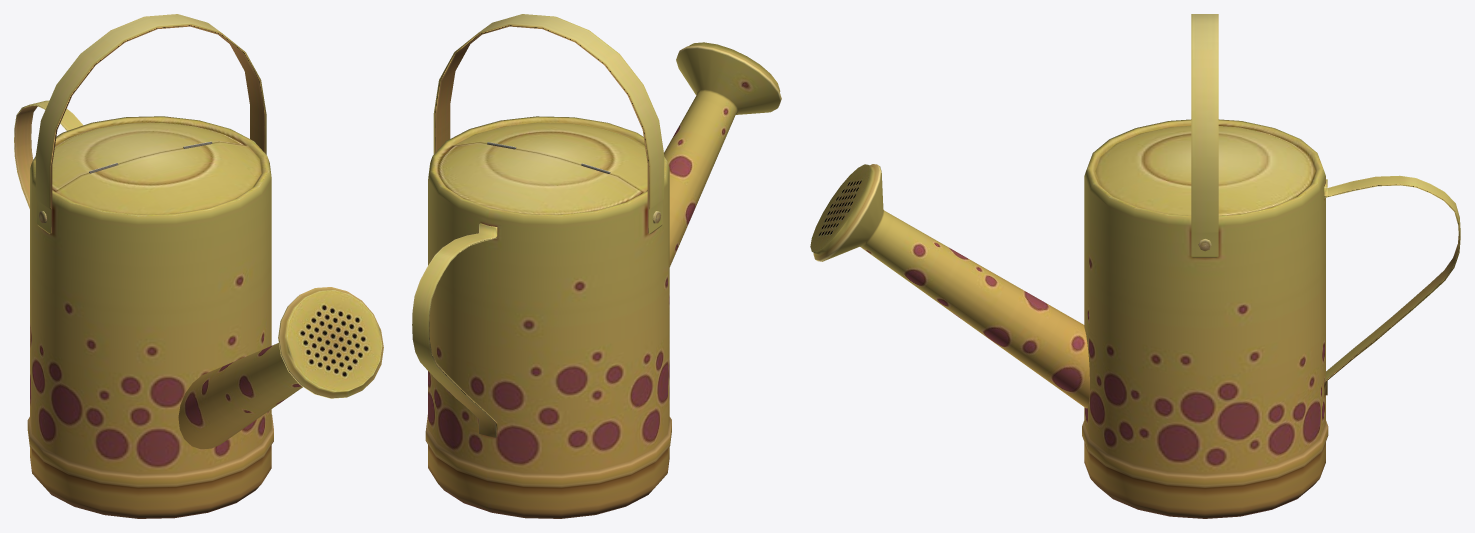
File: WateringCan.glb
3 renders of one model, left to right at view 1: azimuth 30°, elevation 25°; view 2: azimuth 150°, elevation 25°; view 3: azimuth 270°, elevation 25°, orthographic.
Visible parts, largest first — view 1: WateringCan; view 2: WateringCan; view 3: WateringCan.
Part boxes in pixels (bbox=[...]): WateringCan: bbox=[14, 14, 383, 518]; WateringCan: bbox=[412, 14, 781, 518]; WateringCan: bbox=[810, 14, 1460, 518].
Bounding box in the file's own units: 0.1392 × 0.2734 × 0.3612.
Materials: 1 (1 with a texture image).
